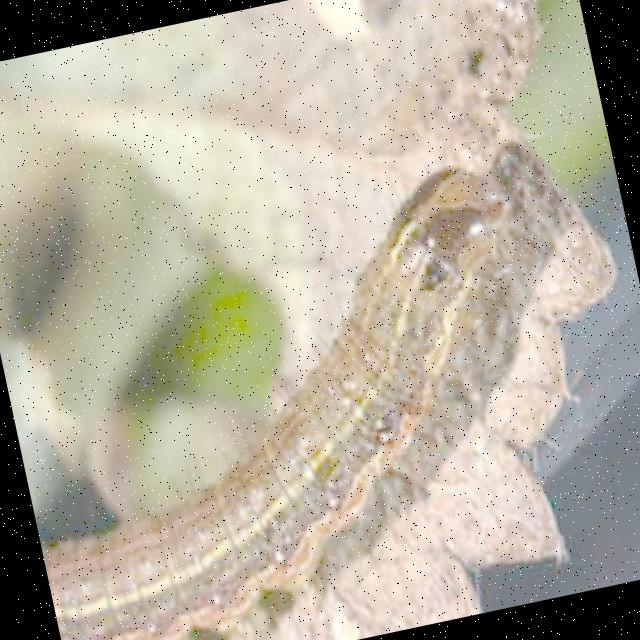worm: (1, 151, 591, 640)
